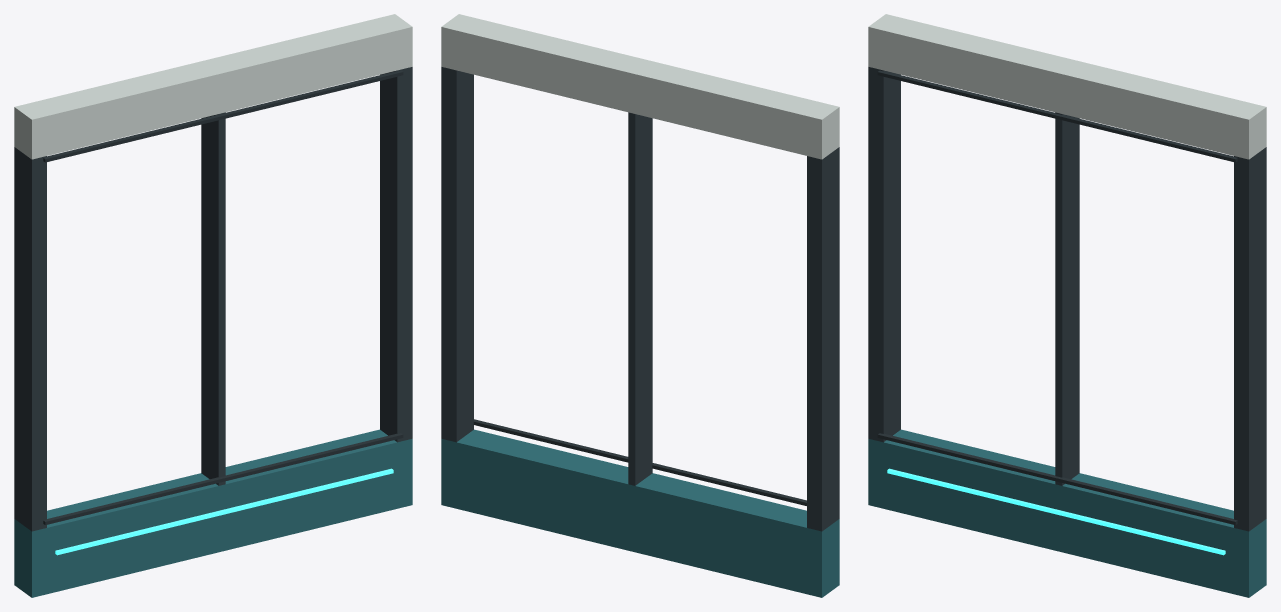
File: Arch_Facade_Frame_3m.glb
3 renders of one model, left to right at view 1: azimuth 30°, elevation 25°; view 2: azimuth 150°, elevation 25°; view 3: azimuth 330°, elevation 25°, orthographic.
Parts seen in each view (by area): view 1: Arch_Facade_Frame_3m; view 2: Arch_Facade_Frame_3m; view 3: Arch_Facade_Frame_3m.
Part boxes in pixels (left/top/right/bottom): Arch_Facade_Frame_3m: left=14, top=14, right=412, bottom=597; Arch_Facade_Frame_3m: left=441, top=14, right=839, bottom=597; Arch_Facade_Frame_3m: left=868, top=14, right=1266, bottom=597.
Bounding box in the file's own units: 3 × 3.6 × 0.2825.
